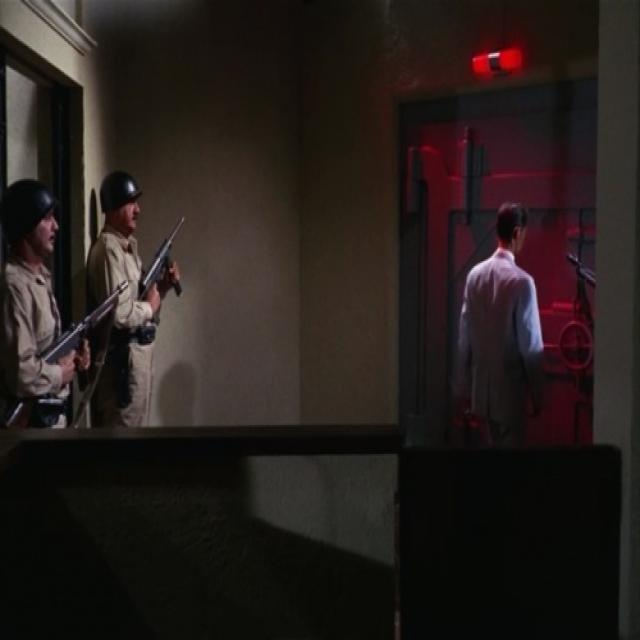rifle: (7, 277, 132, 443), (138, 209, 193, 346)
